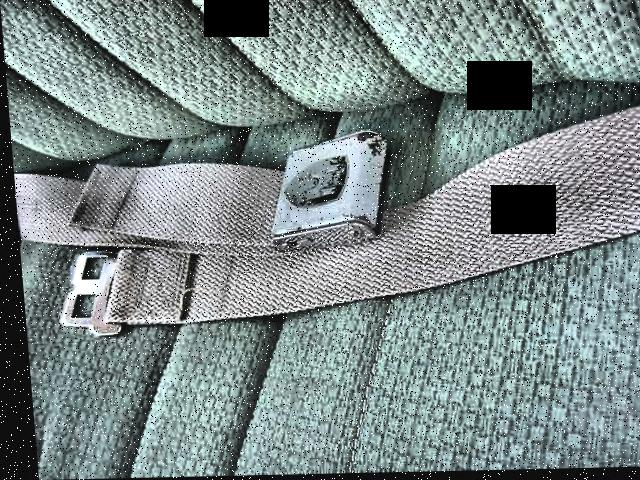seatbelt: (19, 117, 640, 346)
